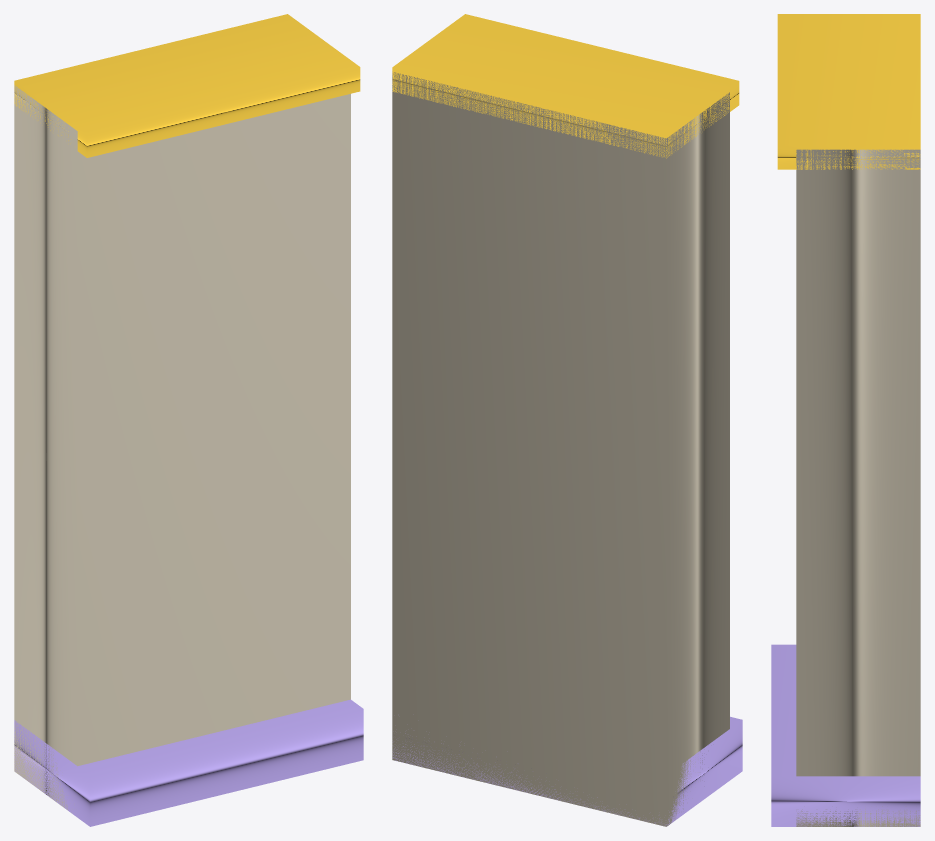
File: wall.glb
3 views of the same model, side by side, from view 1: azimuth 30°, elevation 25°; view 2: azimuth 150°, elevation 25°; view 3: azimuth 270°, elevation 25° (orthographic).
Parts seen in each view (by area): view 1: Wall.001; view 2: Wall.001; view 3: Wall.001.
Part boxes in pixels (x1,y1,x2,y2): Wall.001: [14, 14, 363, 826]; Wall.001: [392, 14, 742, 826]; Wall.001: [771, 14, 920, 826].
Bounding box in the file's own units: 1 × 2.41 × 0.48.
